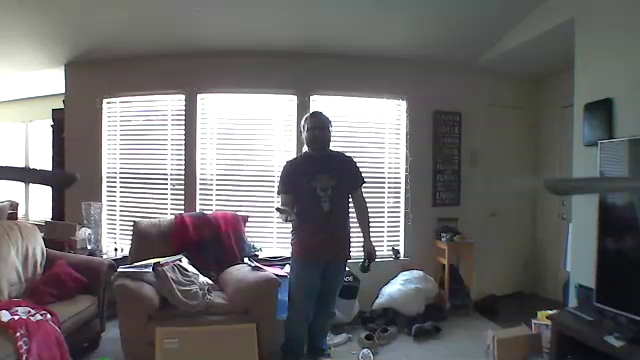land: (273, 205, 301, 226)
